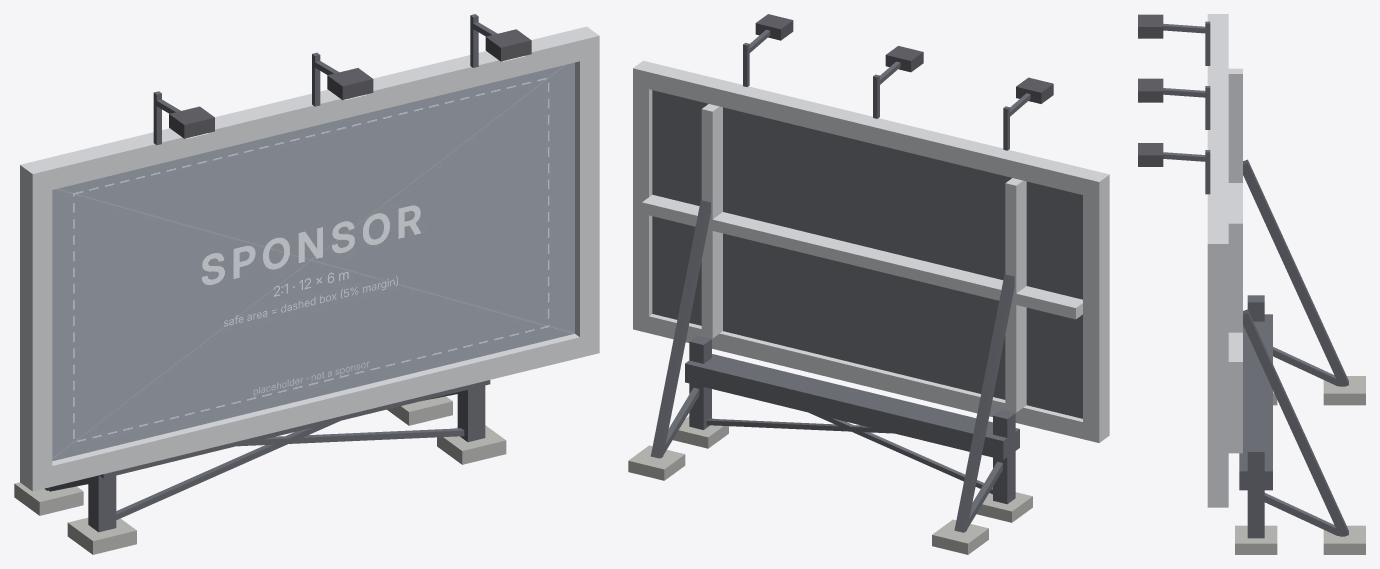
The model's file is billboard-infield.glb.
3 renders of one model, left to right at view 1: azimuth 30°, elevation 25°; view 2: azimuth 150°, elevation 25°; view 3: azimuth 270°, elevation 25°, orthographic. The views are drawn at different scales.
Parts seen in each view (by area): view 1: SponsorPatch, Frame, Posts, Footings, LampBodies; view 2: Backing, Frame, Posts, Footings, LampBodies; view 3: Frame, Posts, Footings, LampBodies.
Boxes of the visible parts, x1,y1,x2,y2 form: SponsorPatch: [52, 62, 574, 461]; Frame: [20, 26, 599, 491]; Posts: [44, 14, 497, 532]; Footings: [14, 396, 506, 554]; LampBodies: [169, 29, 531, 138]; Backing: [652, 90, 1082, 418]; Frame: [633, 60, 1109, 442]; Posts: [650, 29, 1030, 532]; Footings: [628, 416, 1032, 554]; LampBodies: [755, 14, 1053, 103]; Frame: [1207, 14, 1242, 507]; Posts: [1163, 21, 1348, 538]; Footings: [1235, 376, 1365, 554]; LampBodies: [1138, 14, 1163, 166].
Bounding box in the file's own units: 12.9 × 10.15 × 5.4.
7 materials, 1 textured.
